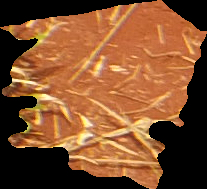soil: (2, 3, 206, 187)
